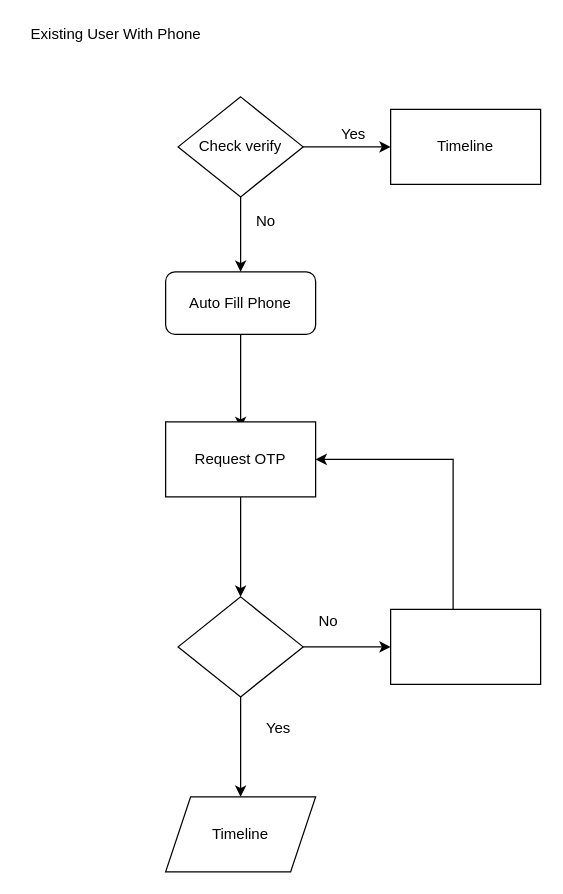
This 563x894 diagram has some shape labels left out. Each missing label, with the box of its shape:
Try Again: (389, 608, 541, 684)
Verify OTP: (177, 596, 303, 697)
